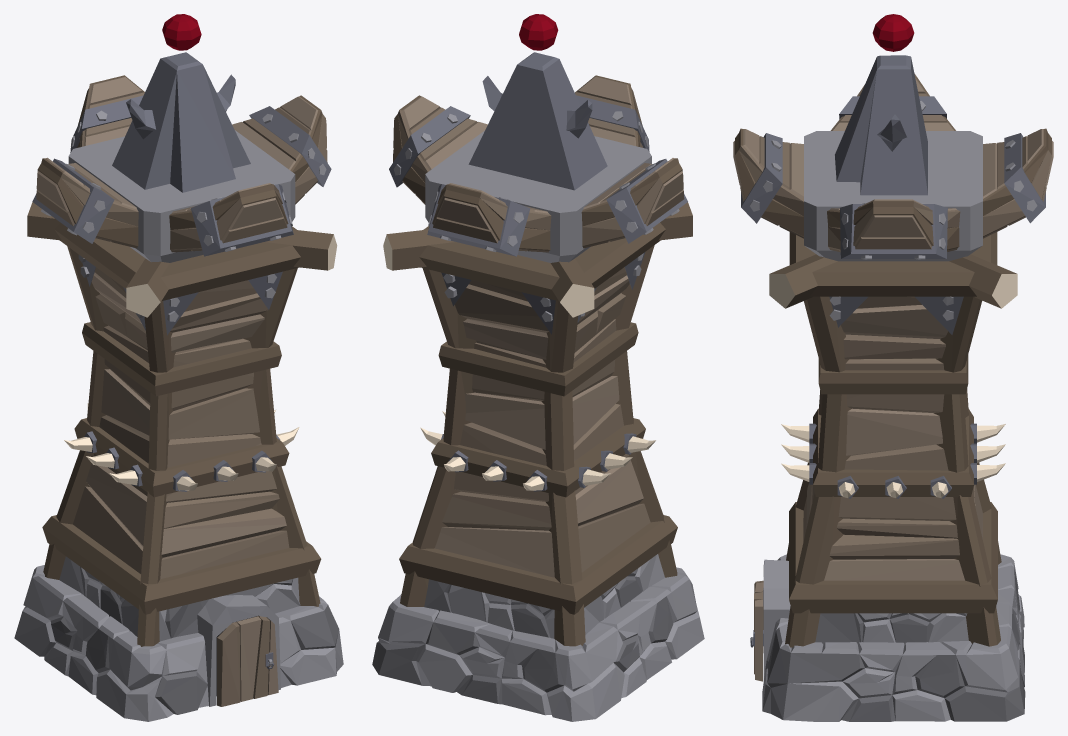
Rendered from _Wizard_tower_LVL_3.fbx.
3 renders of one model, left to right at view 1: azimuth 30°, elevation 25°; view 2: azimuth 150°, elevation 25°; view 3: azimuth 270°, elevation 25°, orthographic. The views are drawn at different scales.
Visible parts, largest first — view 1: Wizard_tower_LVL_3; view 2: Wizard_tower_LVL_3; view 3: Wizard_tower_LVL_3.
Part boxes in pixels (box(x1,y1,x2,y2)): Wizard_tower_LVL_3: box(14, 14, 343, 721); Wizard_tower_LVL_3: box(372, 14, 704, 721); Wizard_tower_LVL_3: box(733, 14, 1053, 721).
Bounding box in the file's own units: 806 × 1809 × 806.
